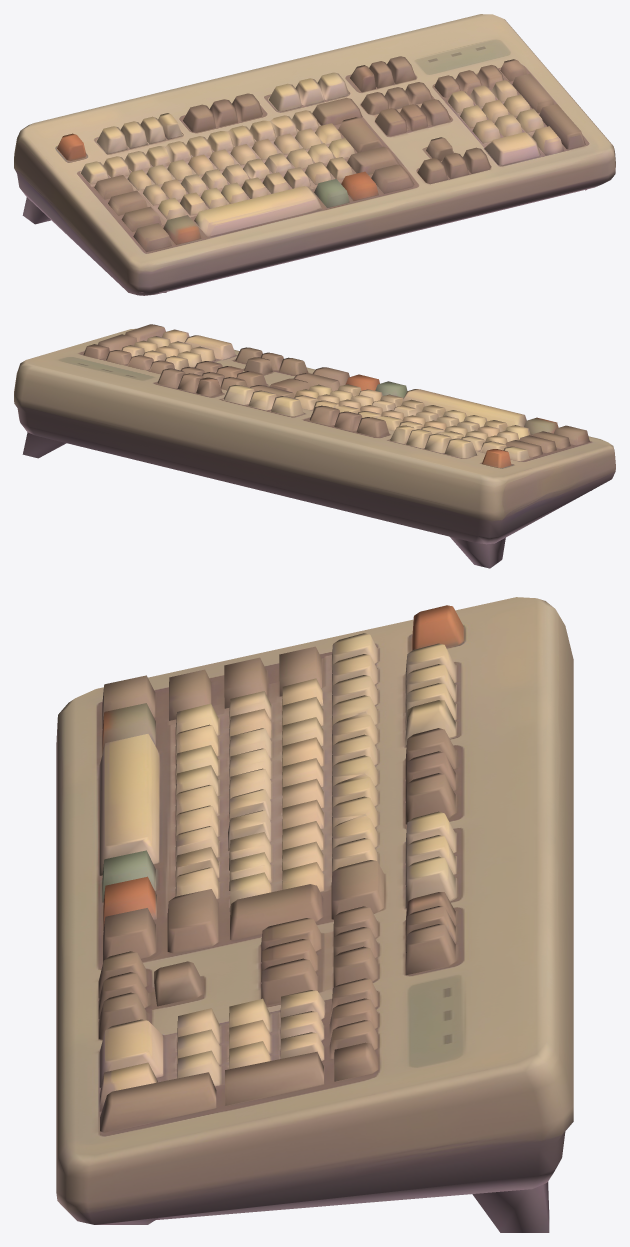
File: retro_keyboard_3d_model.fbx
3 views of the same model, one above another, from view 1: azimuth 30°, elevation 25°; view 2: azimuth 150°, elevation 25°; view 3: azimuth 270°, elevation 25° (orthographic). The views are drawn at different scales.
Parts seen in each view (by area): view 1: dd8c54e2_b23a_46a3_9602_1b11a4013b53; view 2: dd8c54e2_b23a_46a3_9602_1b11a4013b53; view 3: dd8c54e2_b23a_46a3_9602_1b11a4013b53.
Boxes of the visible parts, <box> form: dd8c54e2_b23a_46a3_9602_1b11a4013b53: <box>14,14,615,295</box>; dd8c54e2_b23a_46a3_9602_1b11a4013b53: <box>14,324,615,568</box>; dd8c54e2_b23a_46a3_9602_1b11a4013b53: <box>56,597,573,1232</box>.
Bounding box in the file's own units: 0.9995 × 0.1821 × 0.4585.
